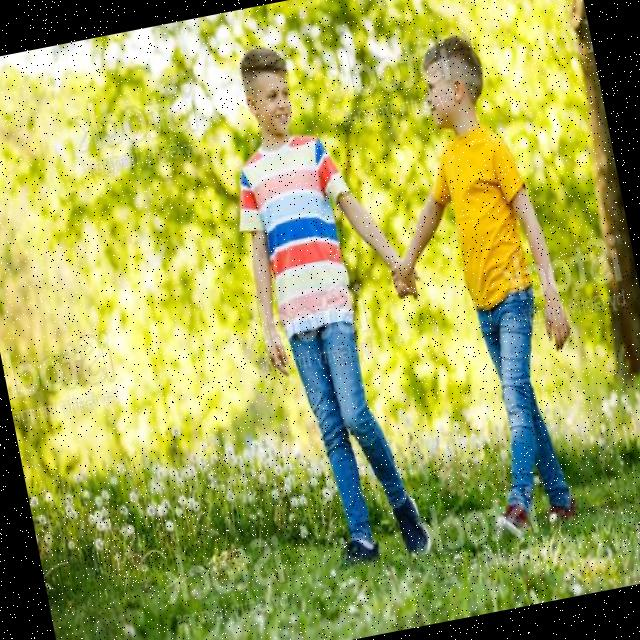Person: (206, 23, 466, 576), (352, 26, 604, 548)
